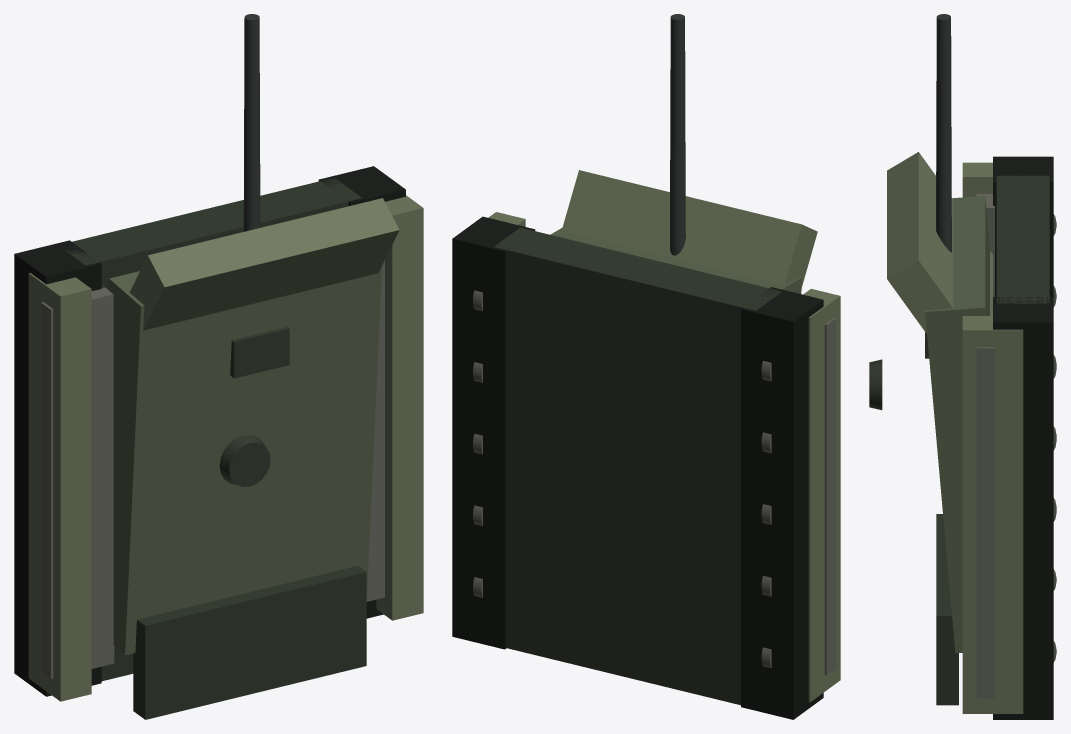
The picture shows the model from 3 angles, left to right: view 1: azimuth 30°, elevation 25°; view 2: azimuth 150°, elevation 25°; view 3: azimuth 270°, elevation 25°; orthographic projection. The views are drawn at different scales.
Visible parts, largest first — view 1: low_wedge_hull, rear_engine_grille, left_low_skirt, extreme_sloped_front, right_low_skirt, left_track_guard, wedge_lower_hull, left_track_rubber, right_track_guard, fixed_105mm_barrel_tube, fixed_gun_mantlet, low_commander_hatch (+1 smaller); view 2: wedge_lower_hull, left_track_rubber, right_track_rubber, extreme_sloped_front, left_low_skirt, left_track_guard, fixed_105mm_barrel_tube, low_wedge_hull; view 3: right_low_skirt, right_track_rubber, low_wedge_hull, extreme_sloped_front, wedge_lower_hull, right_track_guard, fixed_105mm_barrel_tube, rear_engine_grille, left_track_rubber, left_low_skirt, low_commander_hatch, left_track_guard.
Part boxes in pixels (box(x1,y1,x2,y2)): low_wedge_hull: box(108, 266, 381, 655); rear_engine_grille: box(133, 566, 366, 719); left_low_skirt: box(28, 273, 91, 701); extreme_sloped_front: box(129, 198, 399, 330); right_low_skirt: box(376, 195, 423, 620); left_track_guard: box(41, 287, 114, 678); wedge_lower_hull: box(65, 178, 361, 681); left_track_rubber: box(14, 240, 101, 696); right_track_guard: box(366, 260, 384, 601); fixed_105mm_barrel_tube: box(243, 14, 260, 231); fixed_gun_mantlet: box(230, 327, 289, 378); low_commander_hatch: box(219, 434, 270, 486); wedge_lower_hull: box(494, 227, 781, 705); left_track_rubber: box(741, 287, 823, 719); right_track_rubber: box(452, 216, 535, 649); extreme_sloped_front: box(561, 170, 817, 287); left_low_skirt: box(803, 288, 840, 702); left_track_guard: box(824, 318, 835, 675); fixed_105mm_barrel_tube: box(670, 14, 685, 255); low_wedge_hull: box(550, 228, 801, 293); right_low_skirt: box(962, 316, 1023, 713); right_track_rubber: box(993, 297, 1053, 719); low_wedge_hull: box(925, 196, 994, 653); extreme_sloped_front: box(887, 152, 993, 333); wedge_lower_hull: box(996, 175, 1049, 303); right_track_guard: box(976, 347, 994, 697); fixed_105mm_barrel_tube: box(936, 14, 951, 252); rear_engine_grille: box(936, 514, 958, 705); left_track_rubber: box(993, 156, 1053, 296); left_low_skirt: box(962, 162, 992, 197); low_commander_hatch: box(869, 359, 882, 410); left_track_guard: box(976, 194, 994, 296).
Bounding box in the file's own units: 53.2 × 93 × 24.75.
